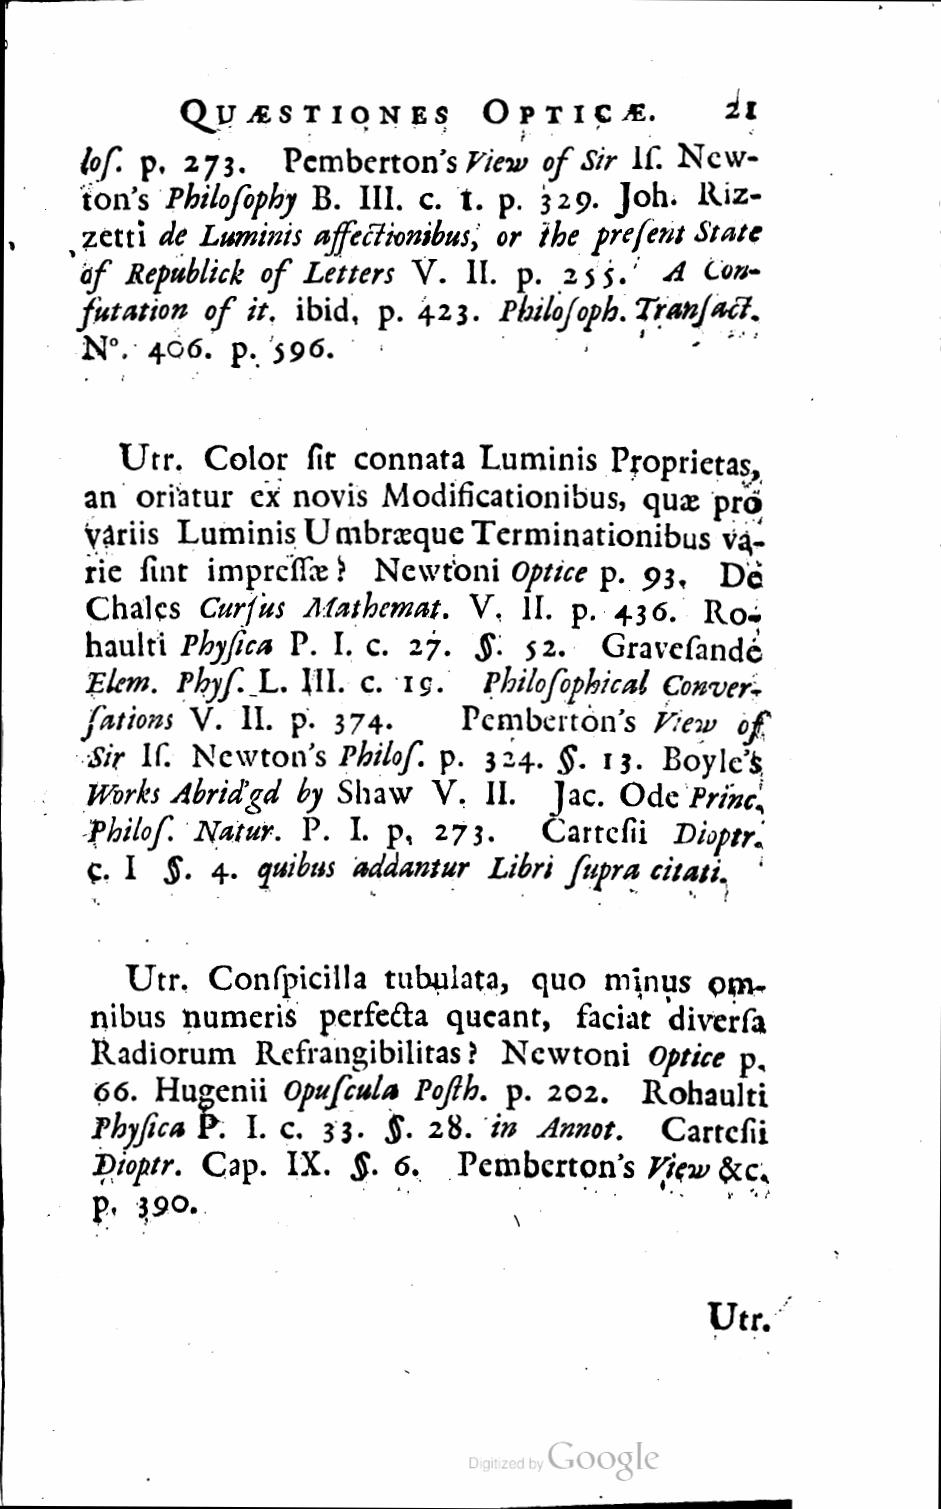bottom_p: (78, 142, 772, 366)
catchword: (706, 1294, 778, 1344)
full_p: (82, 440, 770, 890), (88, 966, 770, 1226)
header: (180, 94, 660, 132)
page_num: (722, 96, 764, 124)
